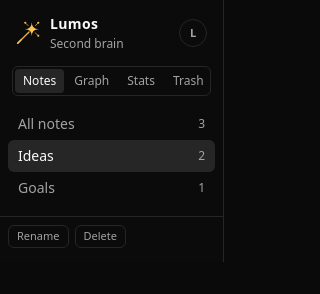
Test: Sidebar - removing a folder › removes the folder only once the question is confirmed
Click the button "Delete" at (100, 236), box [74,225,126,248]
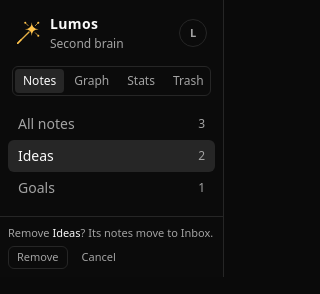
Click the button "Remove" at (38, 257), box [8,246,68,269]
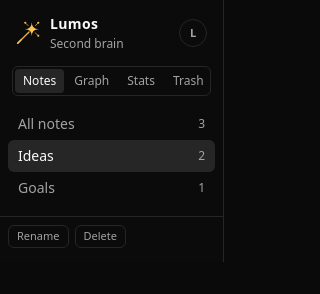
Expected: the text "Remove" is gone
